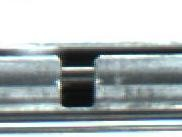oneu: (45, 48, 110, 113)
